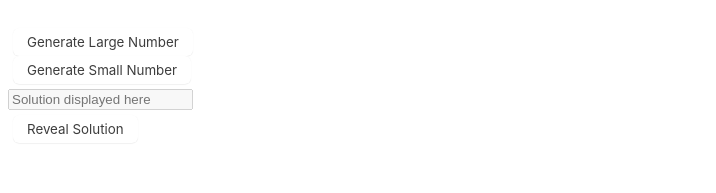
Scenario: NumbersGame › generates large number when "Generate Large Number" button is clicked
This screenshot has width=716, height=193.
Click the button "Generate Large Number" at [103, 42], box x1=13 y1=28 x2=193 y2=56
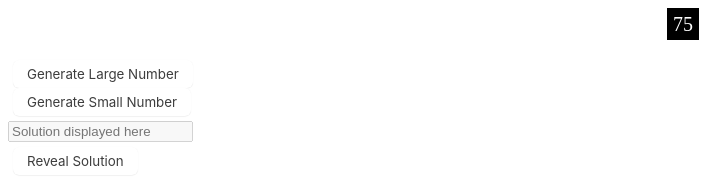
Check: the text "75" is shown, box x1=667 y1=8 x2=699 y2=40
